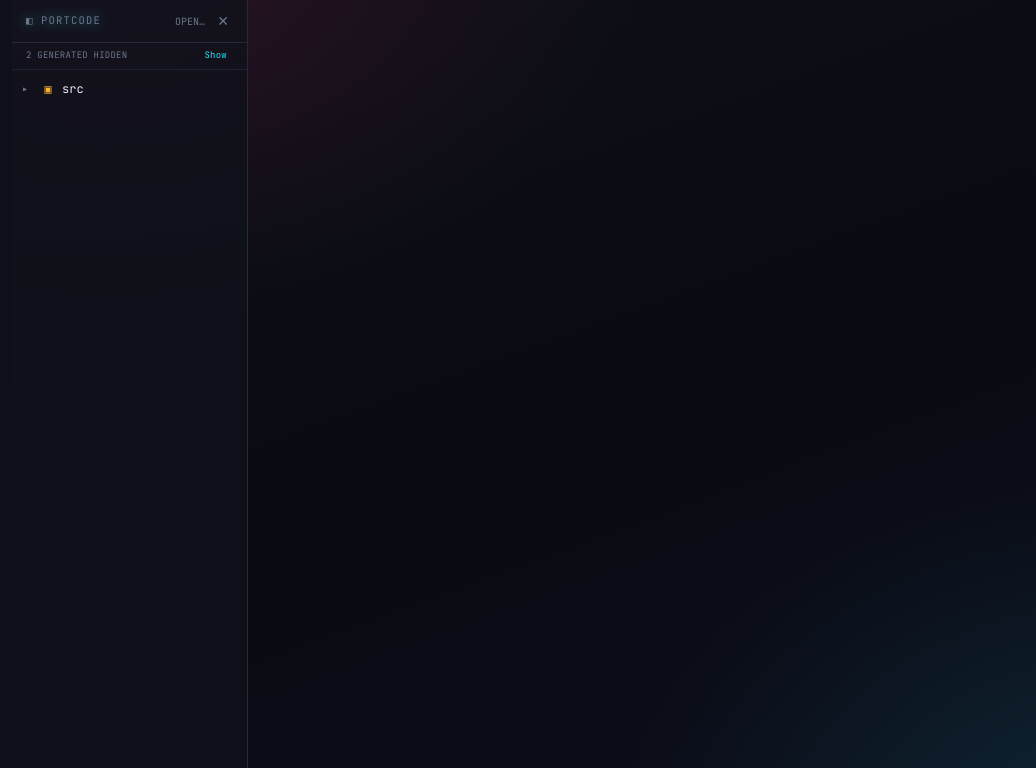
Scenario: FileExplorer generated-directory view › reveals generated roots on demand and visually labels them
Check: the list item with aria-label "src folder" is shown, box [12,76,247,102]
Click the button with aria-label "Show generated and internal folders".
click(216, 56)  # box [198,47,233,64]
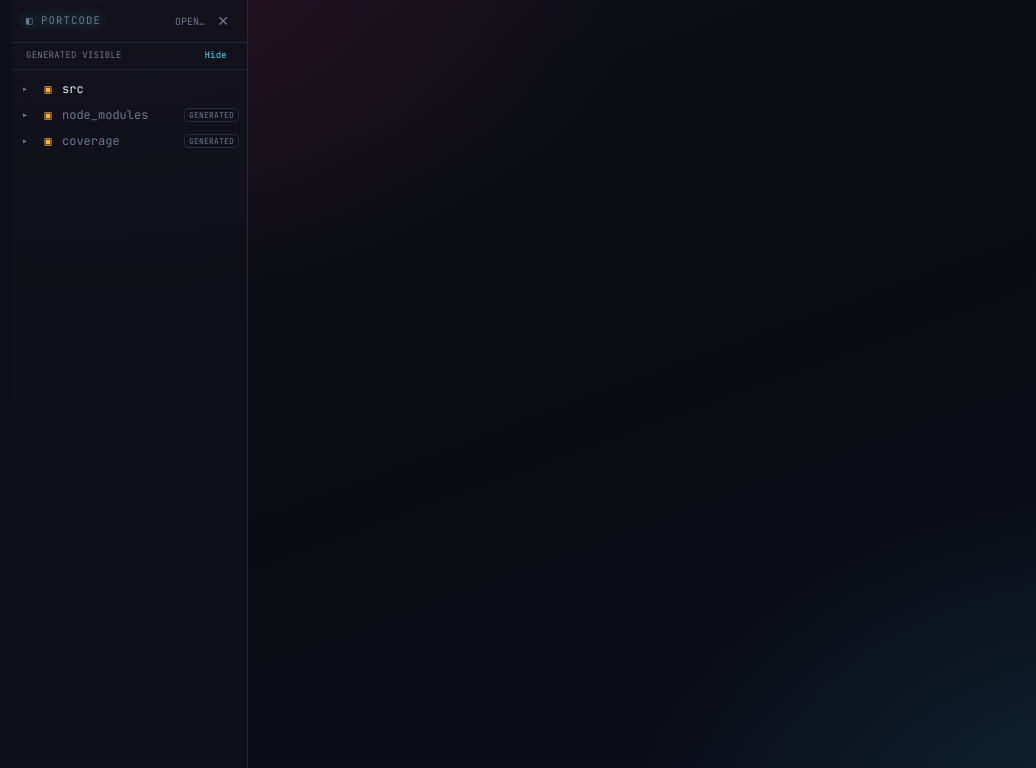
Check: the list item with aria-label "node_modules folder, generated" is shown, box [12,102,247,128]
Check: the list item with aria-label "coverage folder, generated" is shown, box [12,128,247,154]
Check: the text "generated" is shown 2 times, box [184,108,239,122]; [184,134,239,148]
